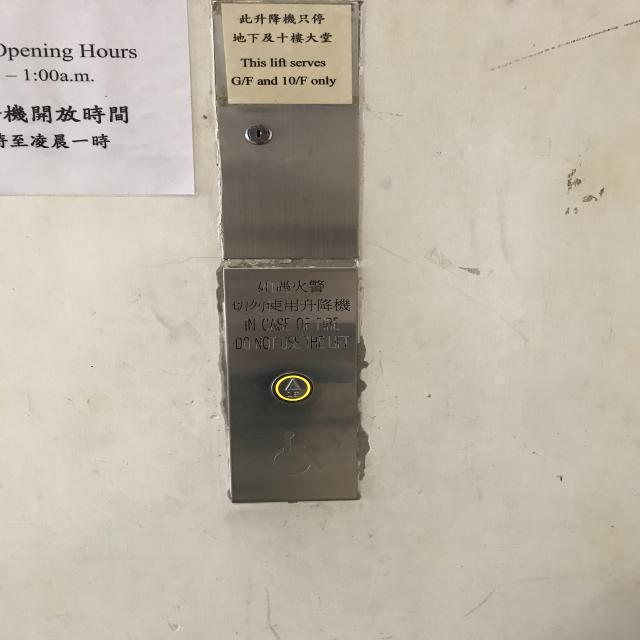up: (270, 370, 316, 404)
